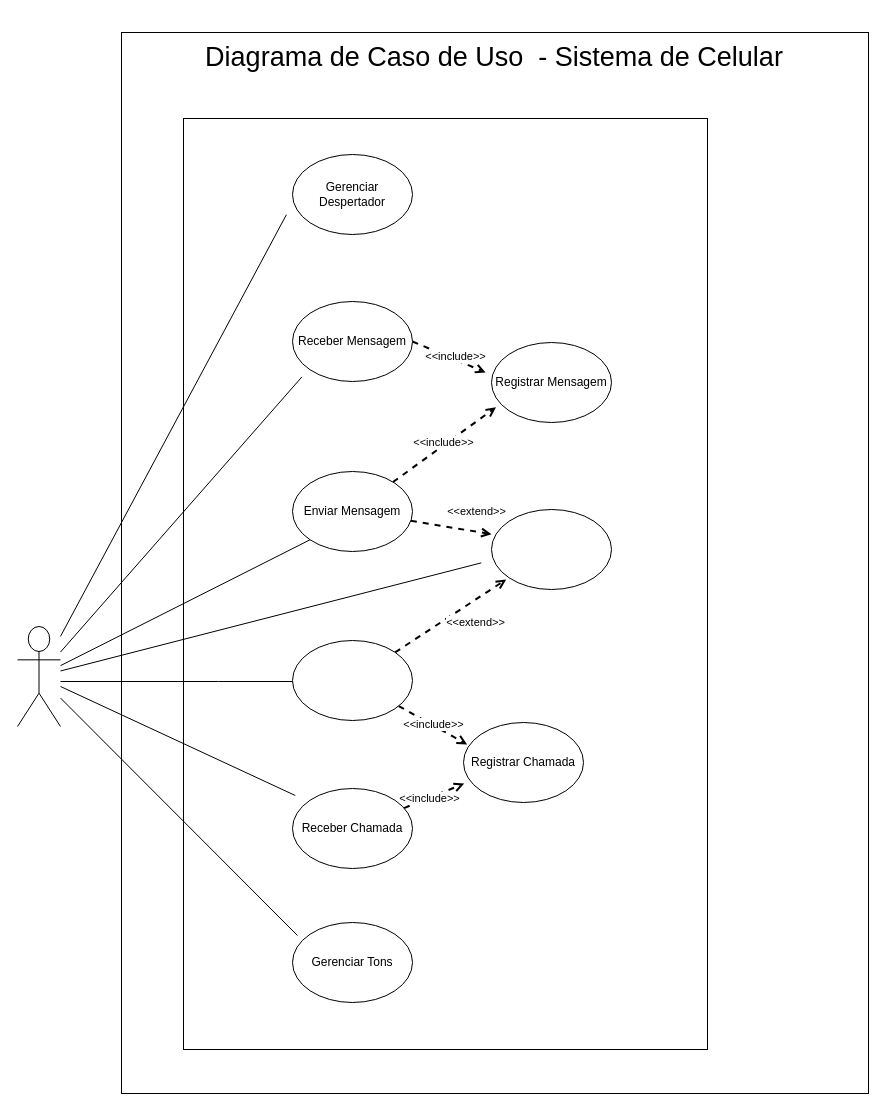
Image size: 886x1111. Some labels were removed from this diagram. Each missing label, with the centre of its shape:
"Actor" goes at (x=38, y=676).
"Gerenciar Contato" goes at (x=551, y=549).
"Realizar Chamada" goes at (x=352, y=680).
